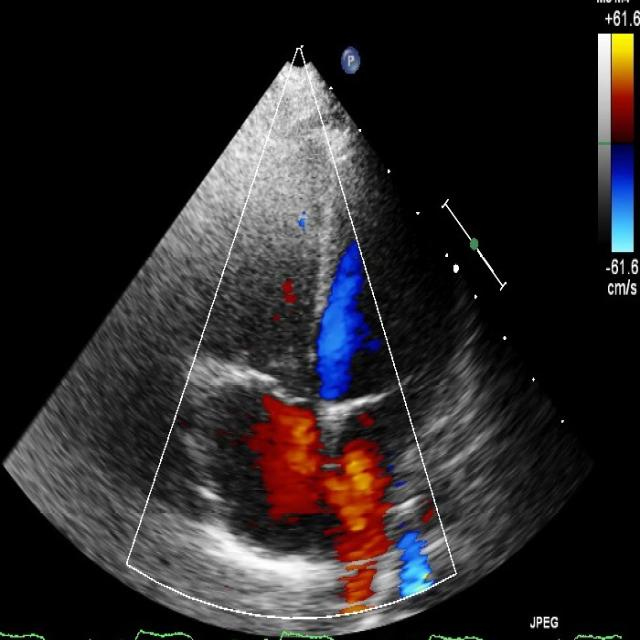ASDType2: (257, 472, 390, 506), (260, 452, 390, 466)
